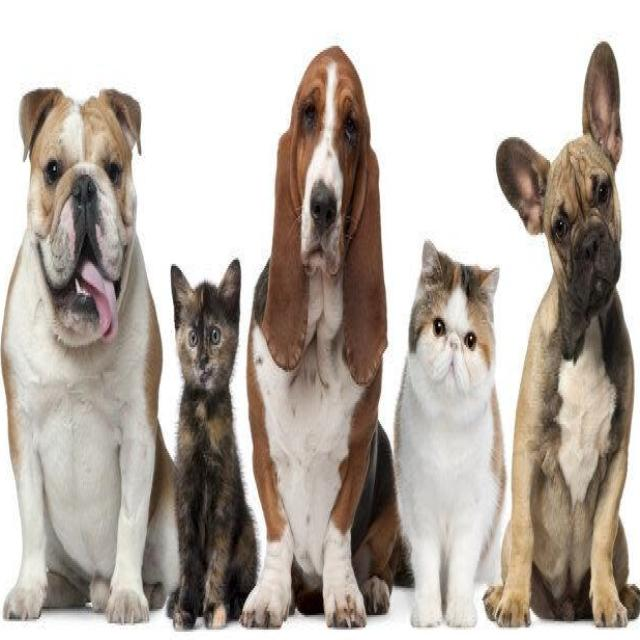cats: (398, 221, 509, 616), (165, 246, 260, 623)
dogs: (247, 30, 405, 626), (10, 86, 161, 605), (505, 41, 639, 624)
